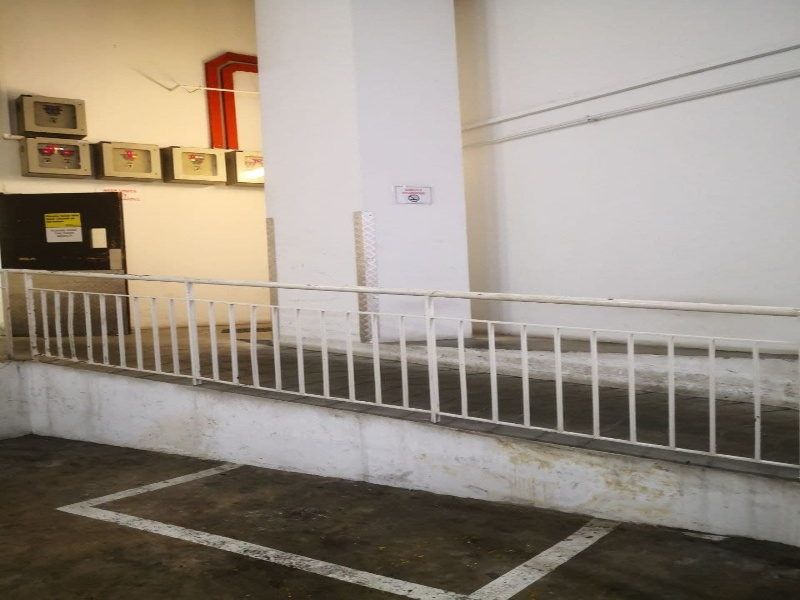slope: (18, 295, 768, 469)
